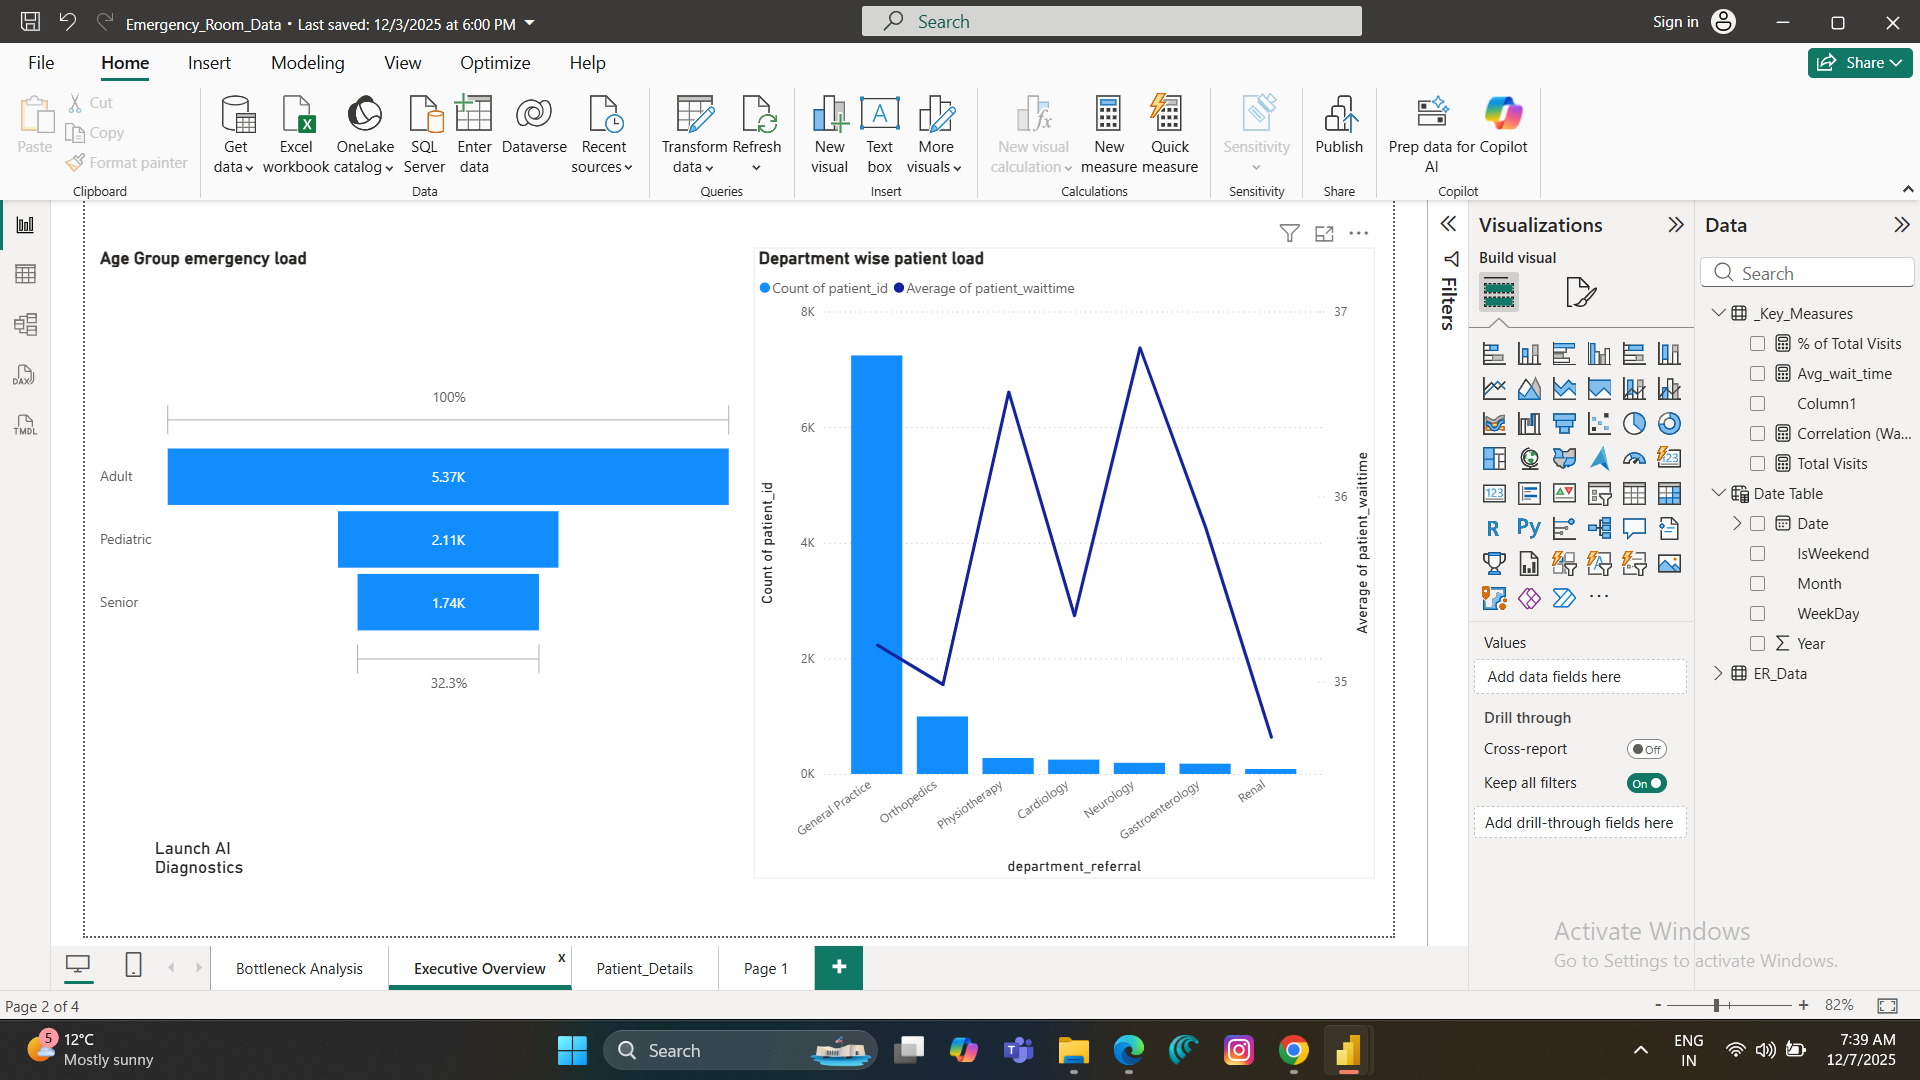

The dashboard page shown, as its layout file describes it:
{"tool":"powerbi","page":{"name":"Executive Overview","canvas":[1280,720],"ordinal":1},"visuals":[{"type":"funnel","title":"Age Group emergency load","fields":{"Category":["ER_Data.age_group"],"Y":["CountNonNull(ER_Data.patient_id)"]},"box":[9.9,46,630.2,551.9],"z":0},{"type":"lineClusteredColumnComboChart","title":"Department wise patient load ","fields":{"Category":["ER_Data.department_referral"],"Y":["CountNonNull(ER_Data.patient_id)"],"Y2":["Avg(ER_Data.patient_waittime)"]},"box":[653.8,46,607.8,617.8],"z":1000},{"type":"actionButton","title":"Launch AI Diagnostics","box":[68.4,624,151.6,39.8],"z":2000}]}

Visuals, with their boxes on the page's 1280x720 design canvas (x1, y1, x2, y2). These are canvas units, not pixel positions in the 1920x1080 screenshot, which may show the page scaled, cropped or inside an application window:
"Age Group emergency load" funnel: <box>10,46,640,598</box>
"Department wise patient load " lineClusteredColumnComboChart: <box>654,46,1262,664</box>
"Launch AI Diagnostics" actionButton: <box>68,624,220,664</box>
